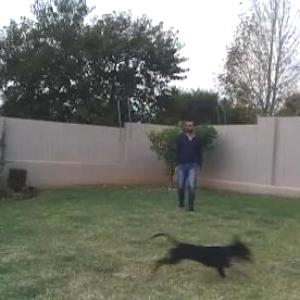follow: (173, 113, 202, 214)
